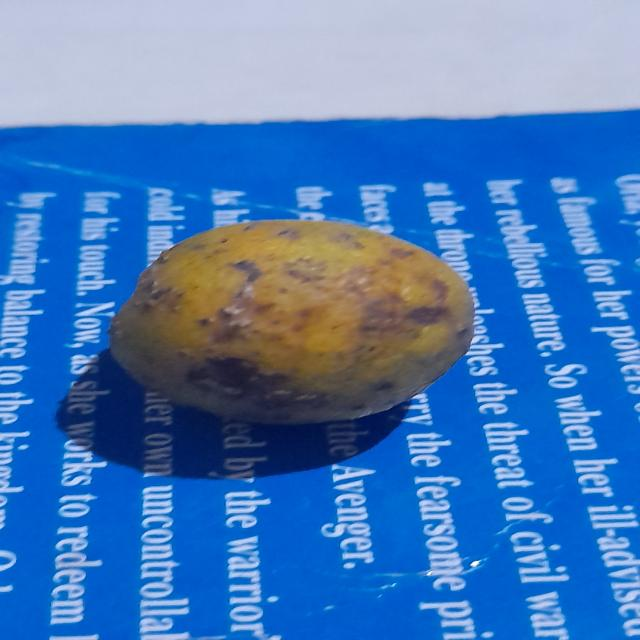black spot: (107, 218, 477, 427)
